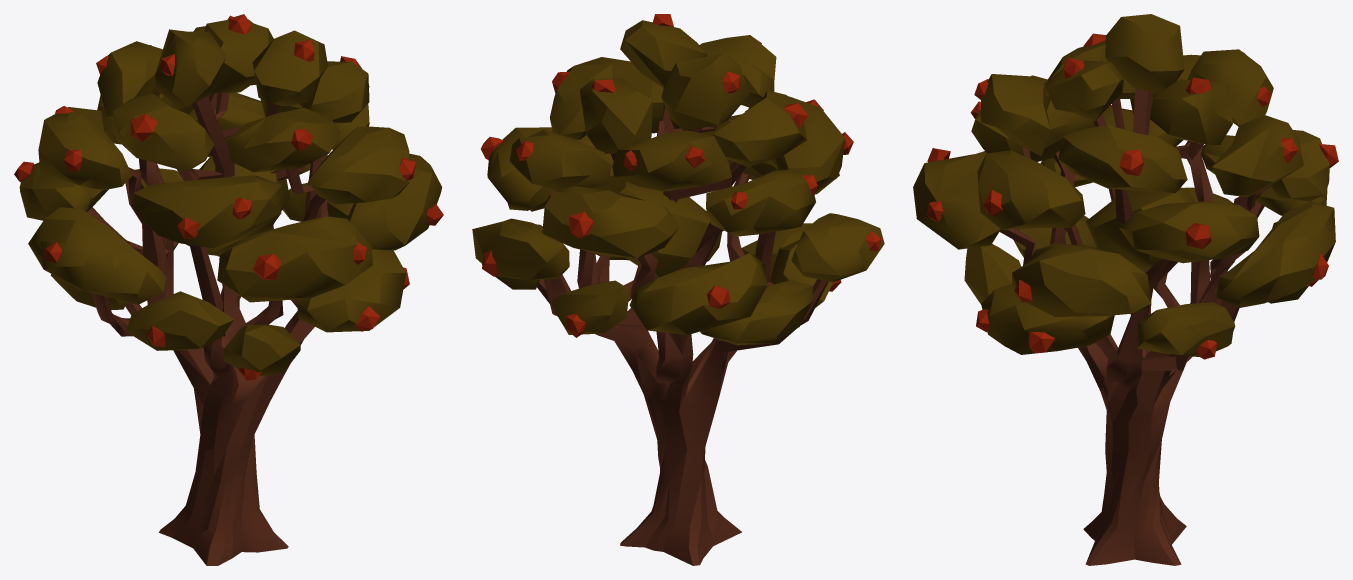
File: Tree_1_Low_WF.fbx
The picture shows the model from 3 angles, left to right: view 1: azimuth 30°, elevation 25°; view 2: azimuth 150°, elevation 25°; view 3: azimuth 270°, elevation 25°; orthographic projection. The views are drawn at different scales.
Parts seen in each view (by area): view 1: Tree_1_Low_WF; view 2: Tree_1_Low_WF; view 3: Tree_1_Low_WF.
Part boxes in pixels (x1,y1,x2,y2): Tree_1_Low_WF: (14,14,443,565); Tree_1_Low_WF: (472,14,884,565); Tree_1_Low_WF: (913,14,1338,565).
Bounding box in the file's own units: 161 × 208 × 157.
